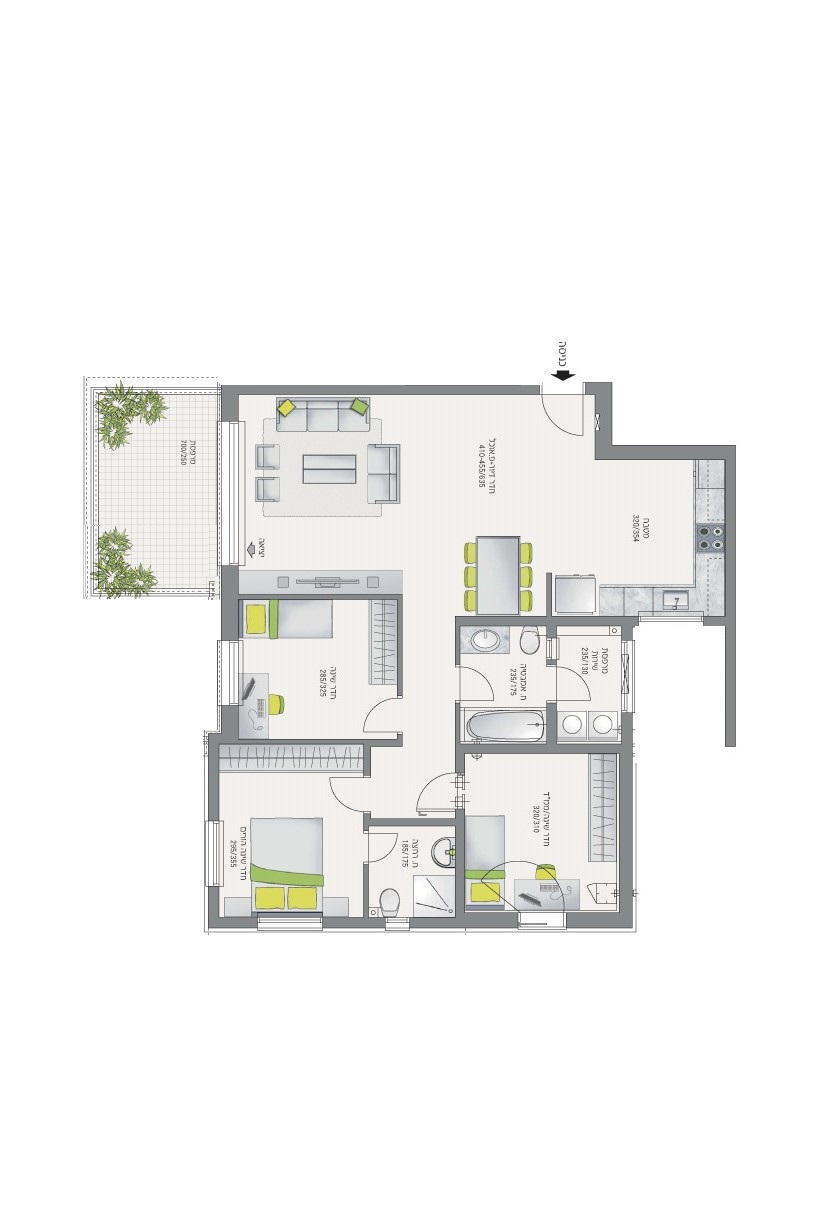door: (533, 399, 590, 450), (404, 772, 453, 817), (356, 693, 394, 737), (324, 773, 359, 816), (564, 664, 599, 707), (467, 663, 501, 704), (373, 830, 402, 865)
wall: (725, 478, 739, 741), (619, 744, 633, 924), (599, 444, 728, 461), (226, 386, 530, 392), (457, 619, 631, 625), (224, 566, 239, 634)
window: (222, 418, 249, 568), (201, 817, 228, 888), (639, 613, 705, 625)
